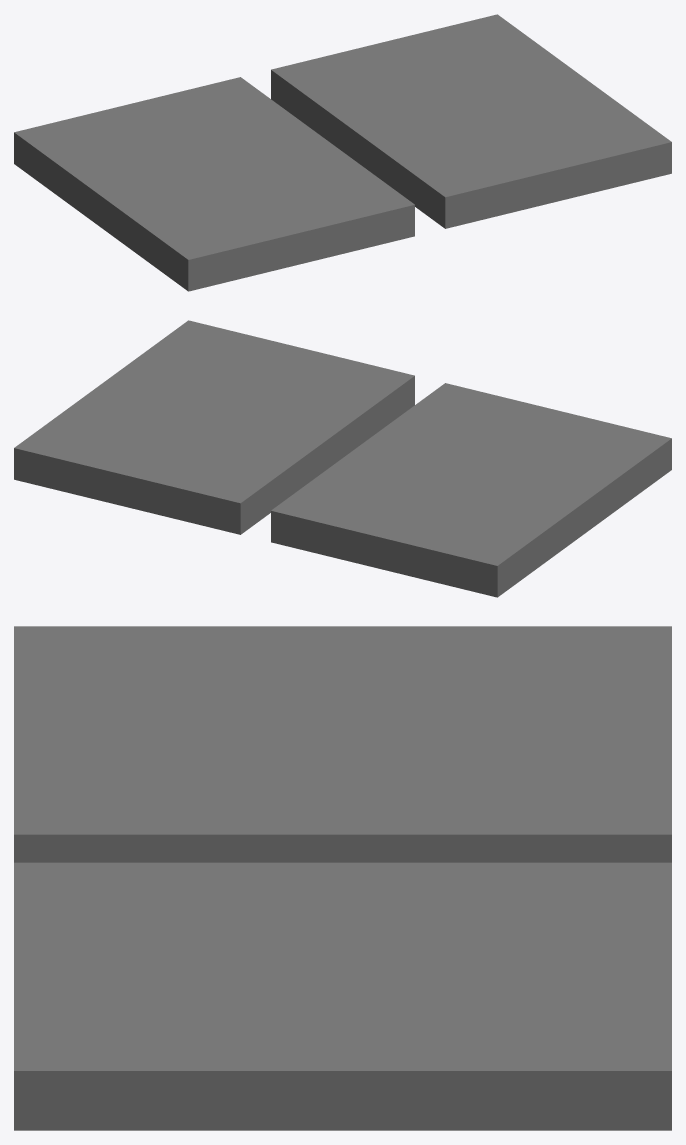
File: С7_Кромки.glb
The picture shows the model from 3 angles, top to bottom: view 1: azimuth 30°, elevation 25°; view 2: azimuth 150°, elevation 25°; view 3: azimuth 270°, elevation 25°; orthographic projection. The views are drawn at different scales.
Parts seen in each view (by area): view 1: node_id3; view 2: node_id3; view 3: node_id3.
Boxes of the visible parts, bbox=[...] form: node_id3: bbox=[14, 14, 671, 291]; node_id3: bbox=[14, 320, 671, 597]; node_id3: bbox=[14, 626, 671, 1130].
Bounding box in the file's own units: 0.512 × 0.032 × 0.32.
1 material, 1 textured.
